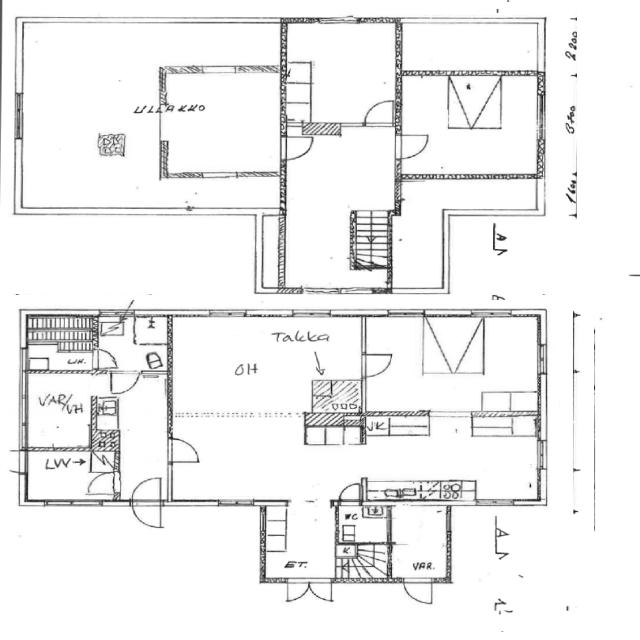door: (130, 475, 165, 531), (394, 132, 434, 161), (165, 436, 205, 464), (360, 98, 398, 127), (360, 350, 396, 379), (401, 577, 435, 606), (280, 133, 315, 161), (304, 578, 336, 604), (110, 370, 141, 395), (284, 579, 314, 604), (91, 348, 121, 371), (338, 482, 364, 504)
window: (532, 90, 550, 145), (10, 90, 29, 142), (18, 380, 31, 434), (42, 498, 104, 509), (533, 341, 551, 378), (199, 63, 243, 78), (154, 109, 172, 145), (467, 308, 514, 320), (534, 438, 550, 473), (316, 15, 361, 27), (290, 308, 334, 320), (198, 170, 238, 183), (384, 308, 426, 320), (216, 497, 258, 508), (299, 284, 337, 296), (476, 497, 516, 508), (206, 309, 247, 319), (18, 346, 30, 372), (96, 308, 122, 318)
zone: (171, 315, 365, 506), (364, 314, 542, 412), (280, 133, 395, 284), (367, 410, 542, 502), (398, 74, 545, 177), (162, 70, 282, 176), (282, 22, 398, 124), (23, 372, 104, 450), (264, 503, 340, 580), (392, 180, 444, 290), (389, 503, 451, 582), (22, 449, 113, 502), (94, 315, 172, 373), (337, 503, 390, 544), (24, 346, 97, 374), (472, 410, 540, 440), (366, 414, 430, 440)
